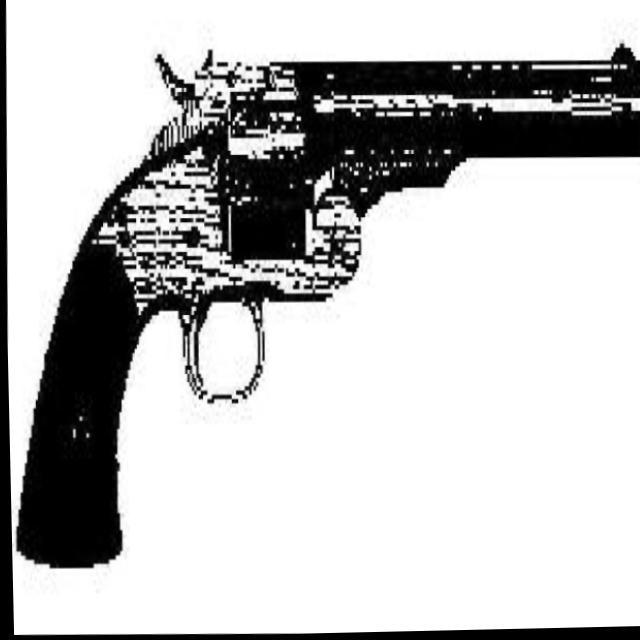weapon: (2, 31, 640, 578)
